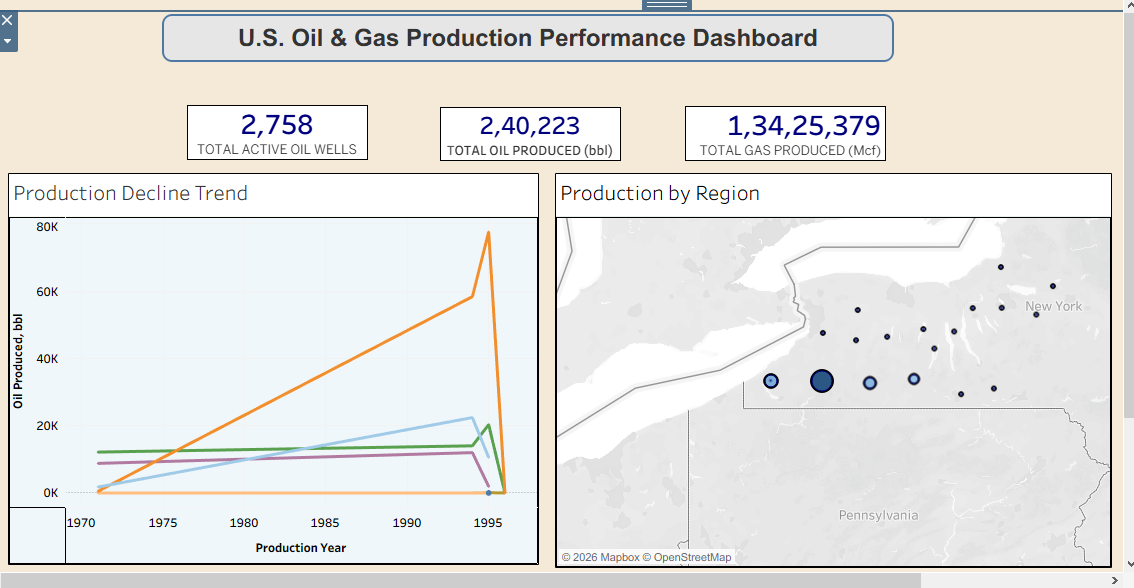

What the dashboard file says about the page in this screenshot:
{"tool":"tableau","page":{"name":"U.S. Oil & Gas Production Performance Dashboard","canvas":[1366,768],"ordinal":0},"visuals":[{"type":"title","box":[178,18,732,48]},{"type":"worksheet","title":"KPI 3","mark":"Automatic","box":[203,109,184,55]},{"type":"worksheet","title":"KPI 2","mark":"Automatic","box":[701,110,207,55]},{"type":"worksheet","title":"KPI 1","mark":"Automatic","box":[456,111,184,56]},{"type":"worksheet","title":"Production Decline Trend","mark":"Automatic","rows":["Oil Produced, bbl"],"cols":["Production Year"],"box":[24,177,531,392]},{"type":"worksheet","title":"Production by Region","mark":"Automatic","box":[571,177,557,395]}]}

Visuals, with their boxes on the page's 1366x768 design canvas (x1, y1, x2, y2). These are canvas units, not pixel positions in the 1134x588 screenshot, which may show the page scaled, cropped or inside an application window:
title: box=[178, 18, 910, 66]
"KPI 3" worksheet: box=[203, 109, 387, 164]
"KPI 2" worksheet: box=[701, 110, 908, 165]
"KPI 1" worksheet: box=[456, 111, 640, 167]
"Production Decline Trend" worksheet: box=[24, 177, 555, 569]
"Production by Region" worksheet: box=[571, 177, 1128, 572]
